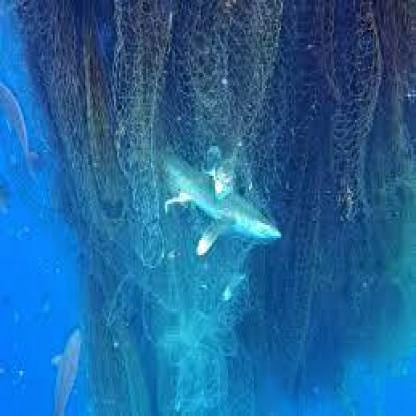net: (32, 5, 416, 290)
